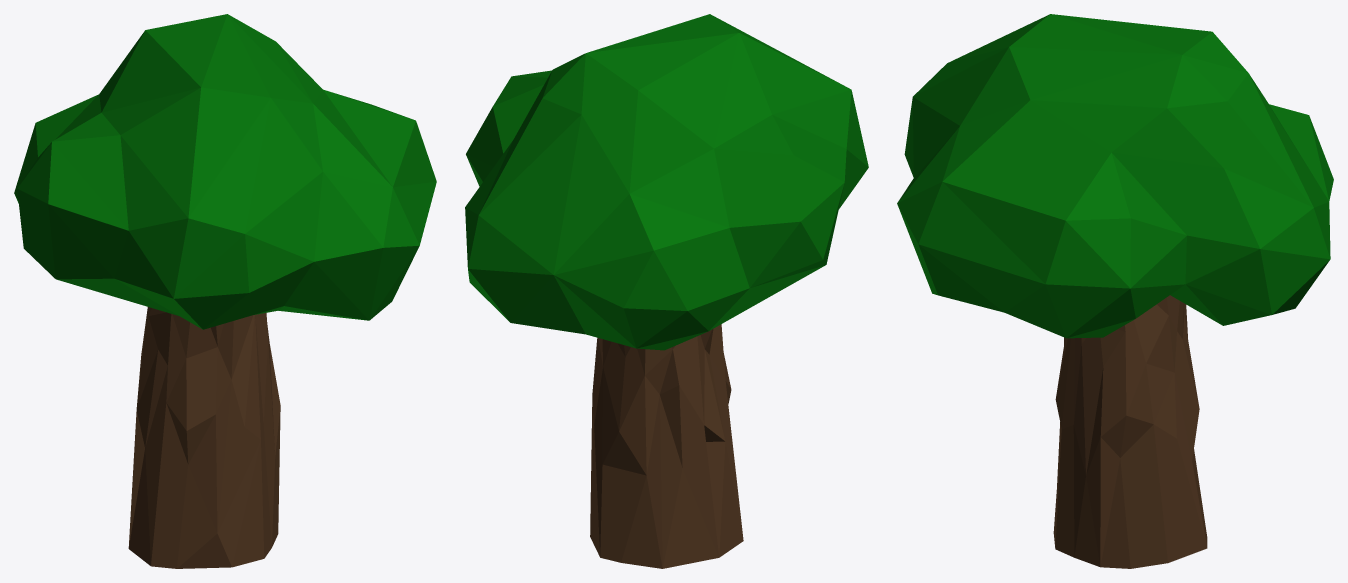
The model's file is Tree_Grown.fbx.
The picture shows the model from 3 angles, left to right: view 1: azimuth 30°, elevation 25°; view 2: azimuth 150°, elevation 25°; view 3: azimuth 270°, elevation 25°; orthographic projection. The views are drawn at different scales.
Parts seen in each view (by area): view 1: SM_Tree; view 2: SM_Tree; view 3: SM_Tree.
Boxes of the visible parts, left/top/right/bottom form: SM_Tree: left=14, top=14, right=436, bottom=568; SM_Tree: left=465, top=14, right=868, bottom=568; SM_Tree: left=897, top=14, right=1333, bottom=568.
Bounding box in the file's own units: 582 × 746 × 582.
